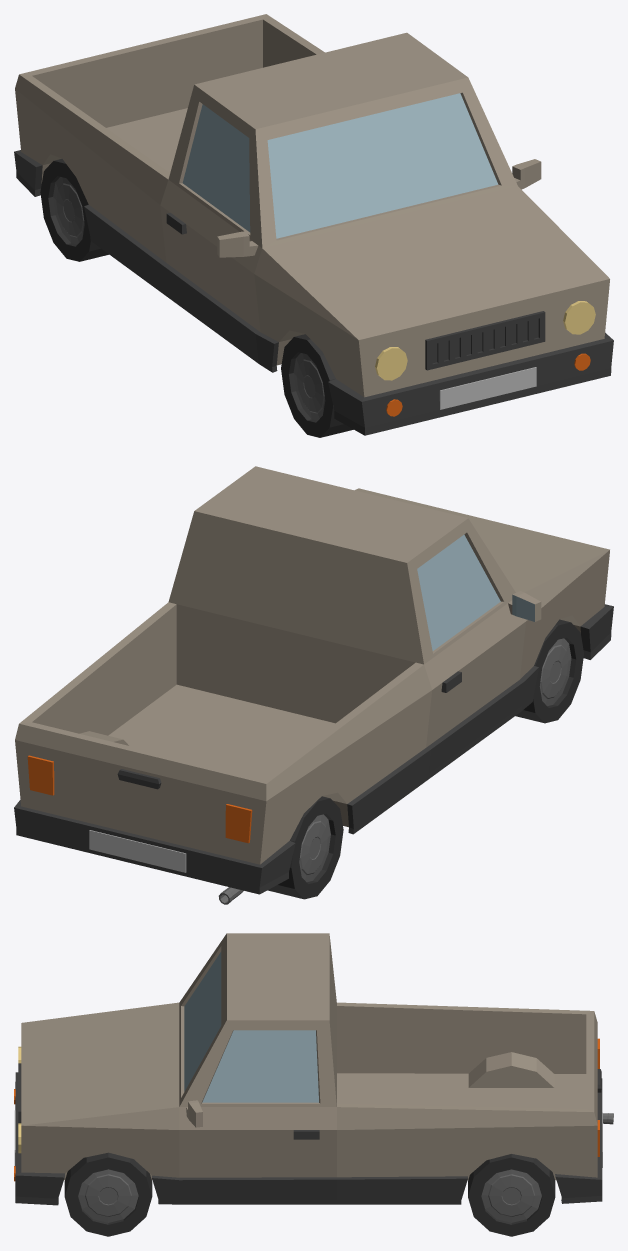
File: car-5.fbx
3 views of the same model, one above another, from view 1: azimuth 30°, elevation 25°; view 2: azimuth 150°, elevation 25°; view 3: azimuth 270°, elevation 25° (orthographic). The views are drawn at different scales.
Visible parts, largest first — view 1: Car5, Car5Wheel-FR, Car5Wheel-RR; view 2: Car5, Car5Wheel-RR, Car5Wheel-FR; view 3: Car5, Car5Wheel-FL, Car5Wheel-RL.
Part boxes in pixels (<box>): Car5: <box>14,14,613,435</box>; Car5Wheel-FR: <box>281,334,353,437</box>; Car5Wheel-RR: <box>40,159,108,261</box>; Car5: <box>14,466,613,904</box>; Car5Wheel-RR: <box>267,796,343,899</box>; Car5Wheel-FR: <box>515,619,583,723</box>; Car5: <box>14,933,613,1205</box>; Car5Wheel-FL: <box>64,1152,152,1236</box>; Car5Wheel-RL: <box>468,1154,555,1236</box>.
Bounding box in the file's own units: 198 × 146 × 381.
